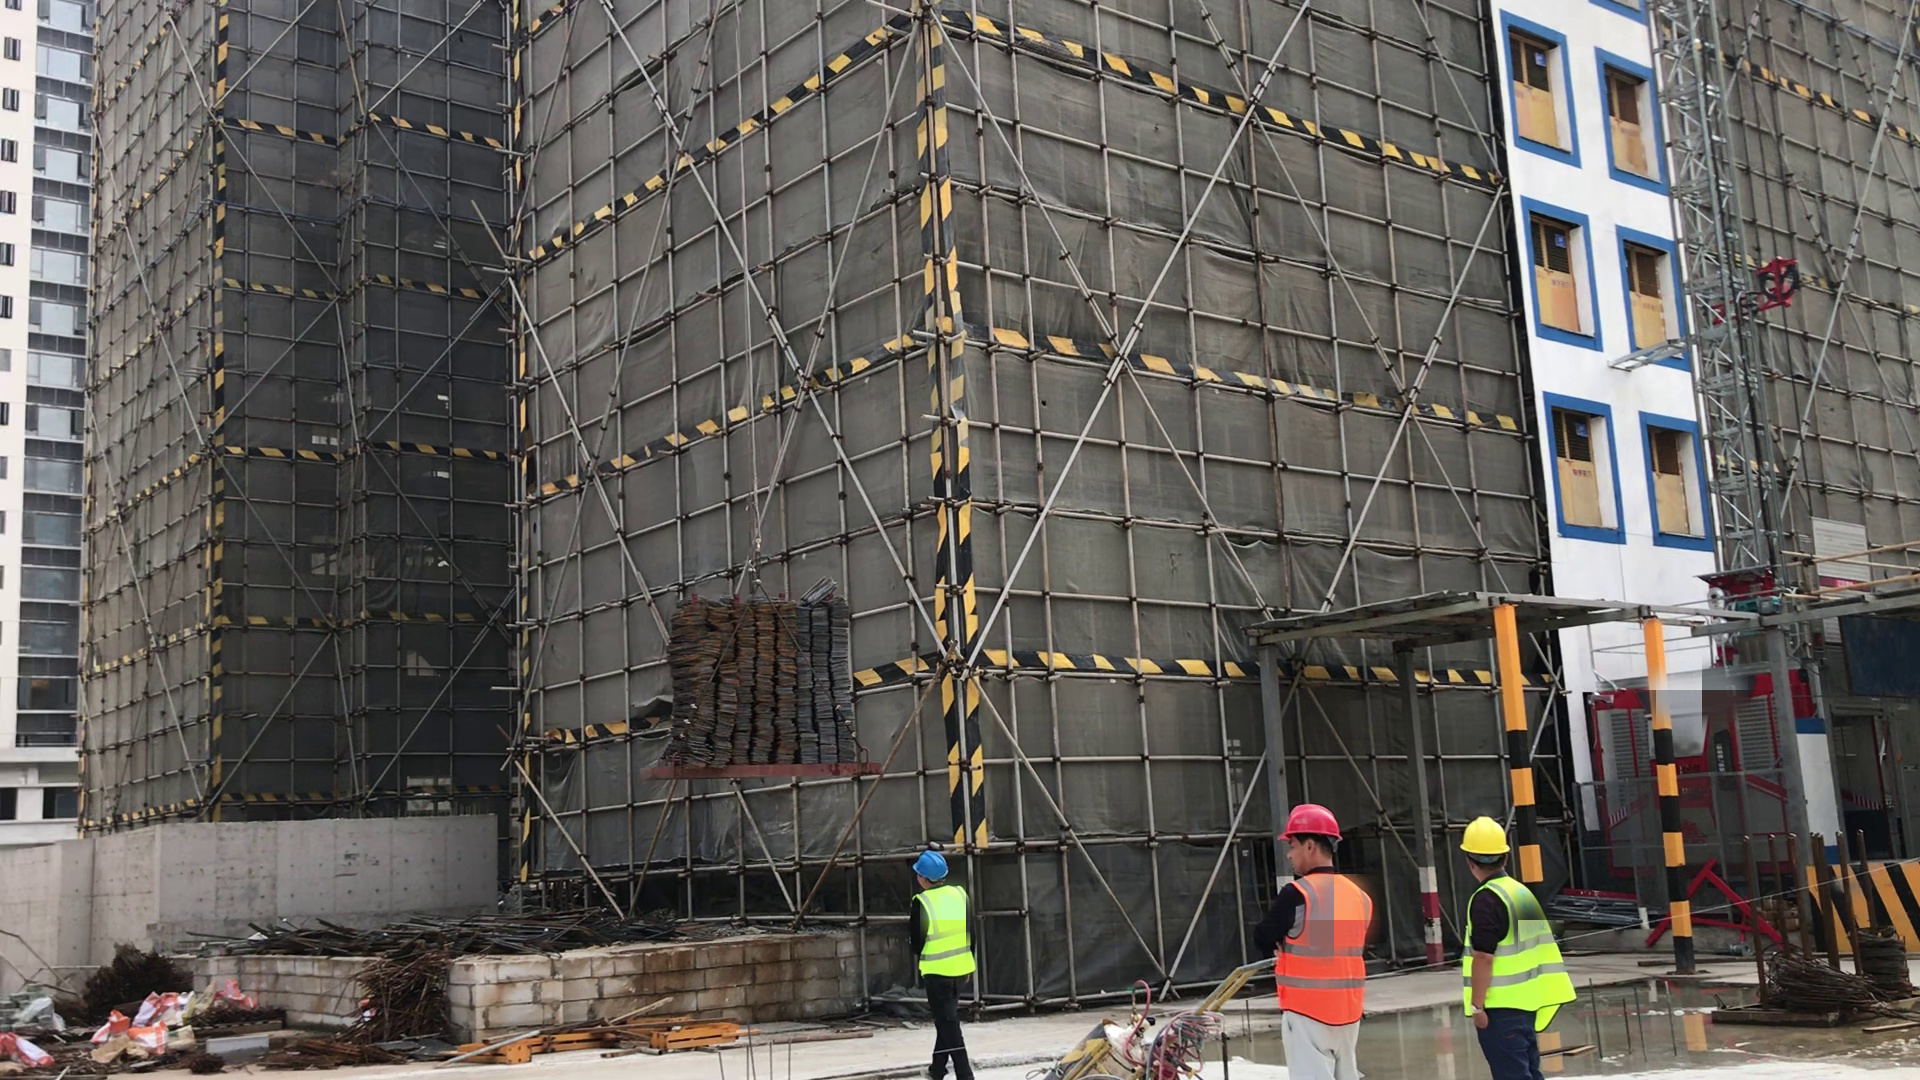helmet: (1276, 800, 1349, 846), (1458, 819, 1516, 855), (913, 848, 951, 884)
person: (1454, 809, 1590, 1080), (1254, 795, 1373, 1080), (894, 845, 997, 1079)
vest: (1467, 874, 1574, 1028), (1273, 871, 1375, 1033), (910, 888, 978, 981)
